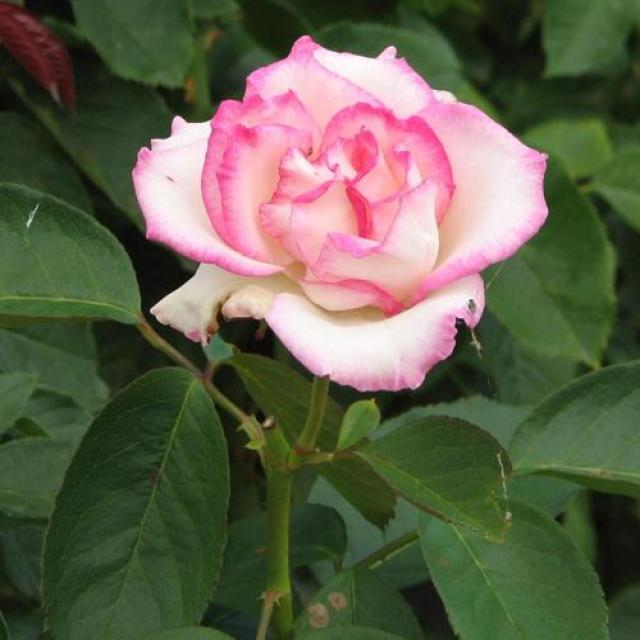rose: (104, 24, 575, 410)
